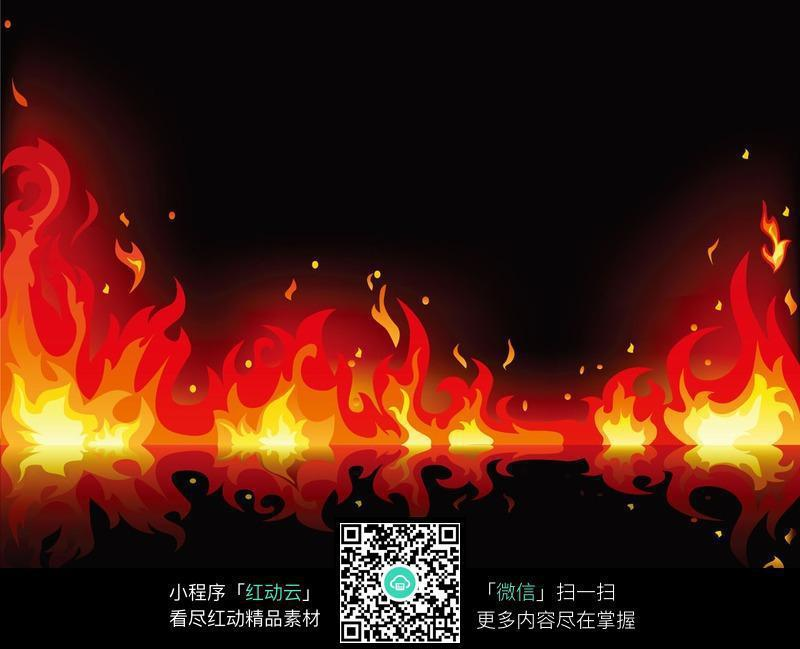fire: (0, 76, 798, 487)
